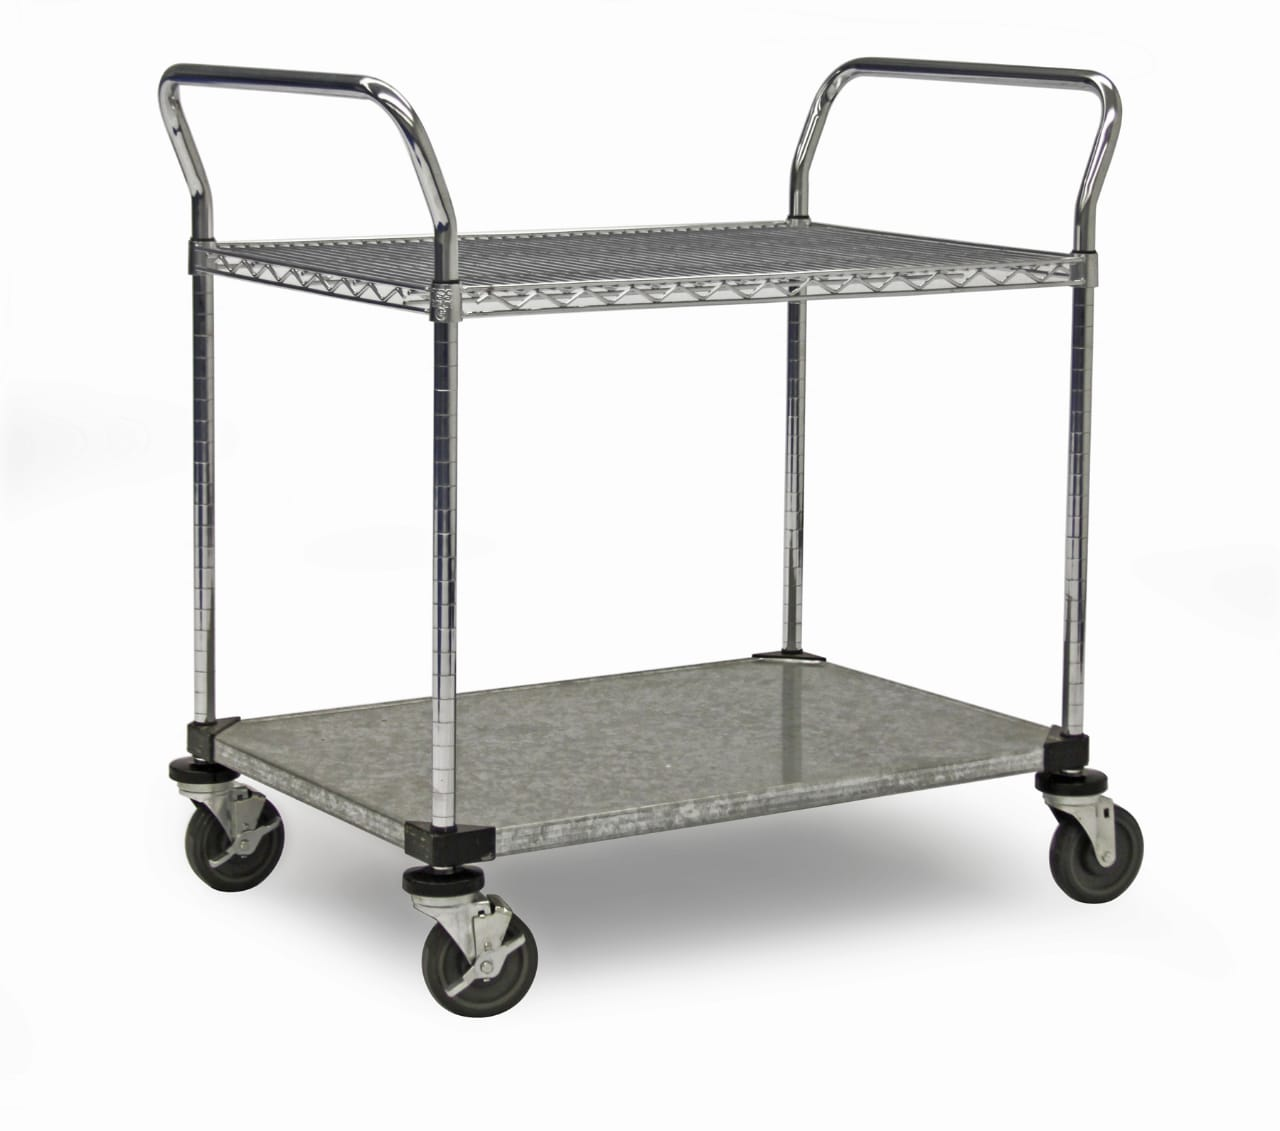Carts: (155, 58, 1145, 1017)
